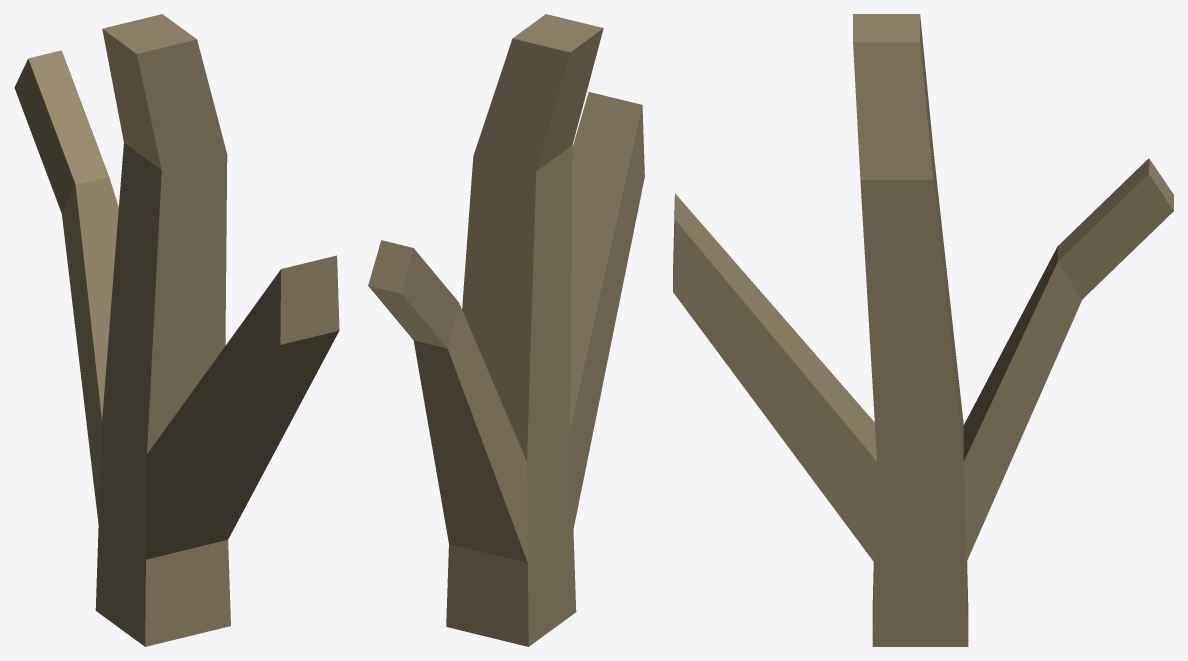
Rendered from tree_big_3.fbx.
3 views of the same model, side by side, from view 1: azimuth 30°, elevation 25°; view 2: azimuth 150°, elevation 25°; view 3: azimuth 270°, elevation 25° (orthographic). The views are drawn at different scales.
Parts seen in each view (by area): view 1: tree_big_3; view 2: tree_big_3; view 3: tree_big_3.
Boxes of the visible parts, left/top/right/bottom form: tree_big_3: left=14, top=14, right=339, bottom=646; tree_big_3: left=368, top=14, right=644, bottom=646; tree_big_3: left=673, top=14, right=1173, bottom=646.
Size of the model in its own units: 25.53 by 135 by 105.
